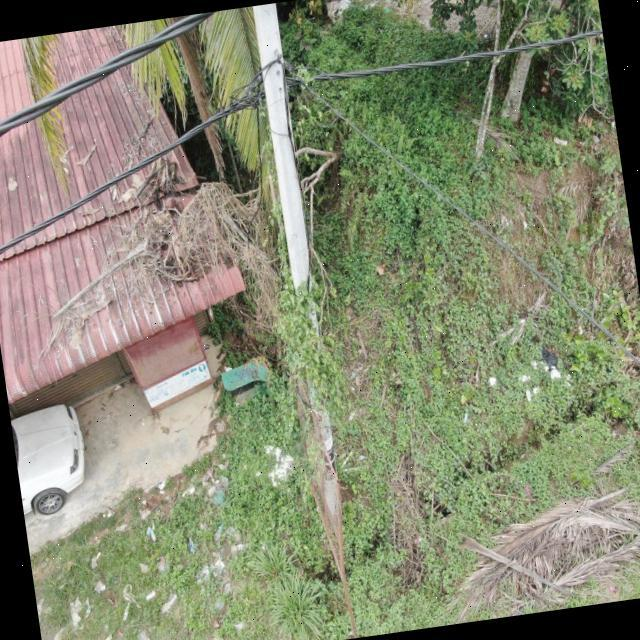critical vegetation: (256, 179, 362, 508)
